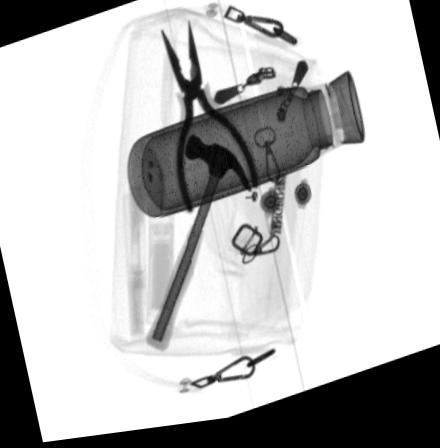Hammer: (145, 137, 250, 356)
Pliers: (162, 22, 257, 218)
